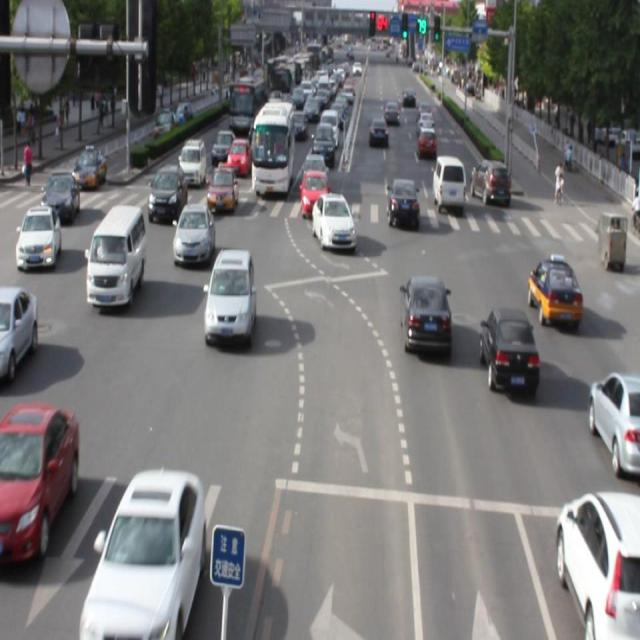car: (85, 469, 205, 640), (1, 400, 77, 569), (556, 490, 640, 640), (588, 372, 640, 476), (480, 306, 538, 393), (205, 246, 256, 342), (400, 276, 451, 355), (528, 255, 579, 323), (173, 205, 216, 267), (311, 196, 355, 253), (148, 162, 187, 225), (387, 176, 418, 228)
truck: (86, 205, 146, 308)
